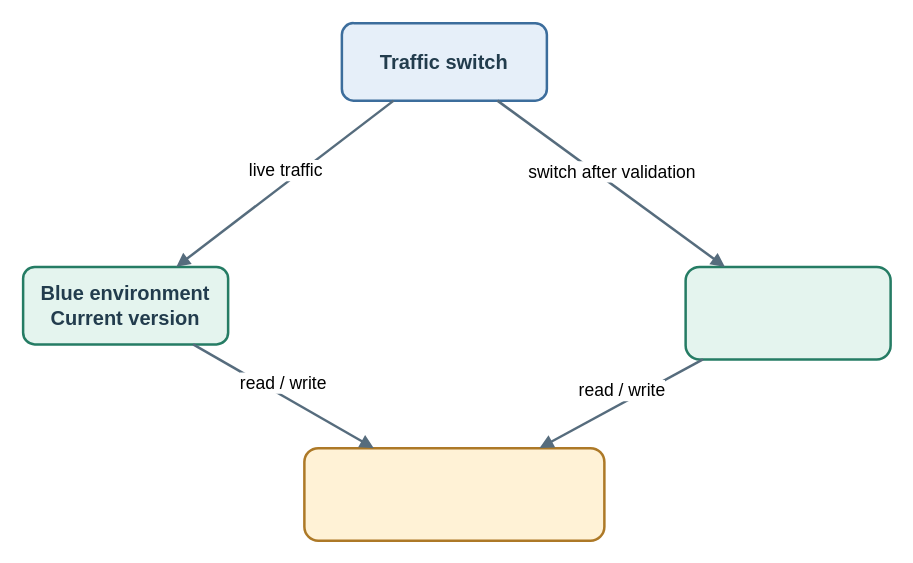
The diagram is 913 pixels wide and 563 high, and some of its shapes have lost their labels. Here are the shapes that lost their labels. From the top down, the centre of each, then its label:
At (787,312): "Green environment New version".
At (453,493): "Shared saved information Compatible with both versions".
